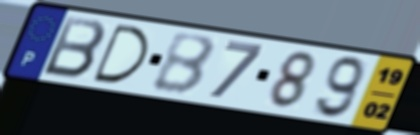7: (205, 38, 269, 102)
8: (266, 50, 319, 111)
9: (313, 54, 368, 120)
B: (39, 14, 109, 81), (148, 32, 218, 97)
D: (90, 22, 152, 86)
